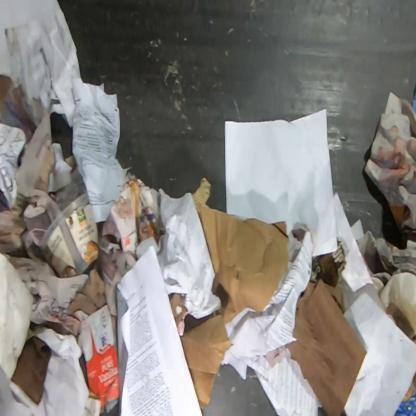cardboard: (179, 178, 289, 411), (285, 275, 368, 415), (72, 303, 121, 414), (0, 74, 14, 110)
rigid_plastic: (38, 192, 100, 278)
soft_plastic: (390, 369, 416, 416)
